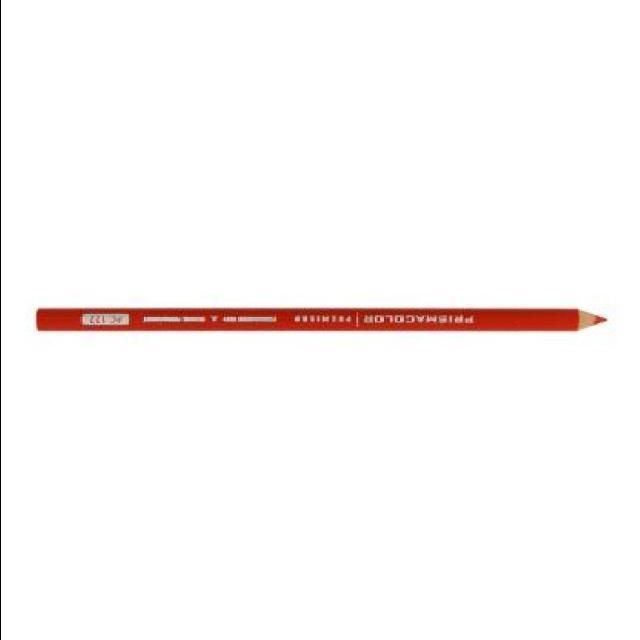Pencil: (550, 300, 614, 342)
